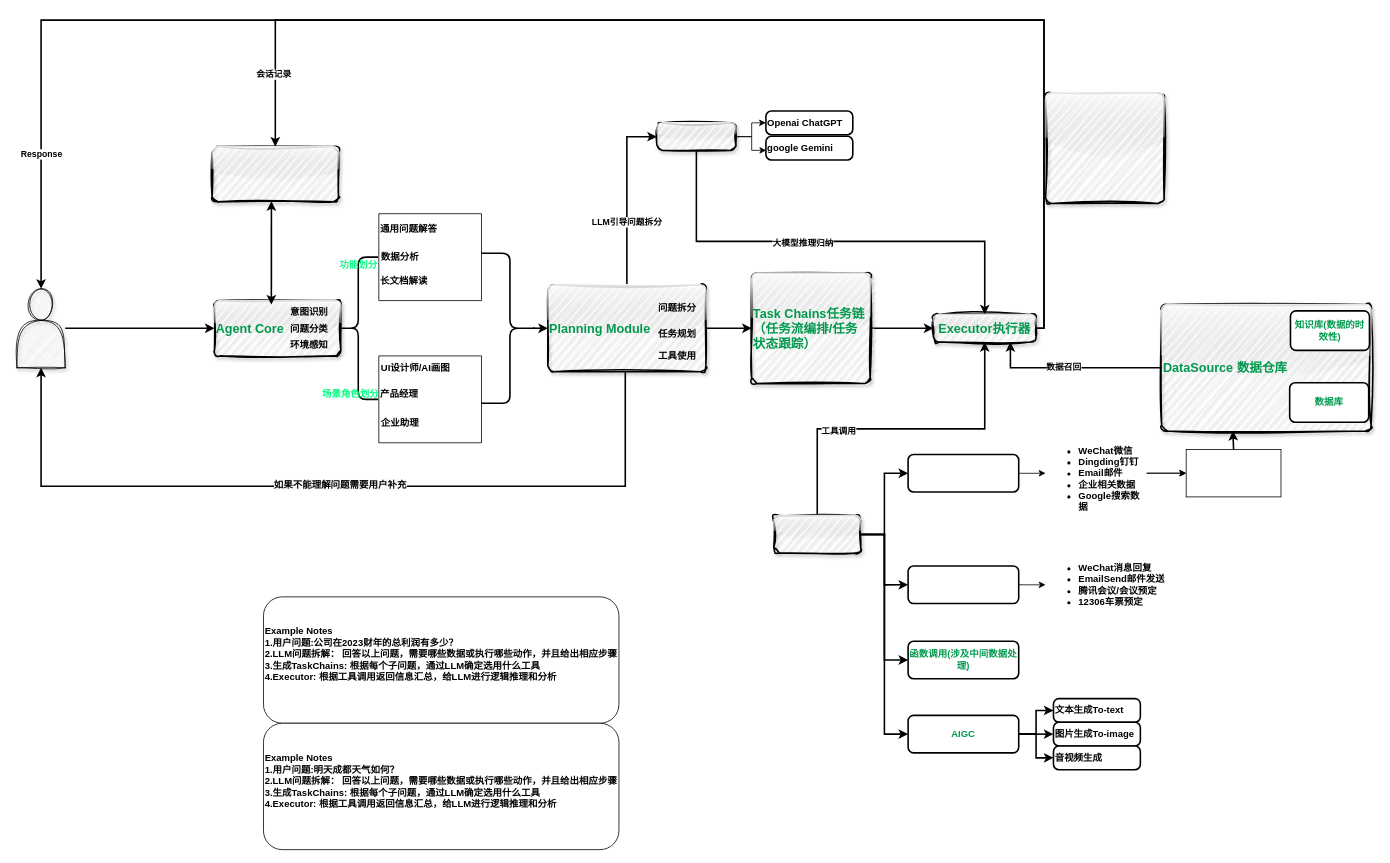
This 1390x863 diagram has some shape labels left out. Here are the shapes that lost their labels. From the top down, the centre of each, then its label:
At [697,137]: "LLM/多模态".
At [1105,148]: "Reflection/Self-critics反思和自我批评".
At [276,175]: "Memory/历史对话".
At [41,329]: "User Quetion".
At [963,472]: "DataCollection数据采集".
At [1233,473]: "数据预处理(数据清洗/结构化处理)".
At [817,535]: "Tools".
At [963,584]: "OutsideAction外部调用".
